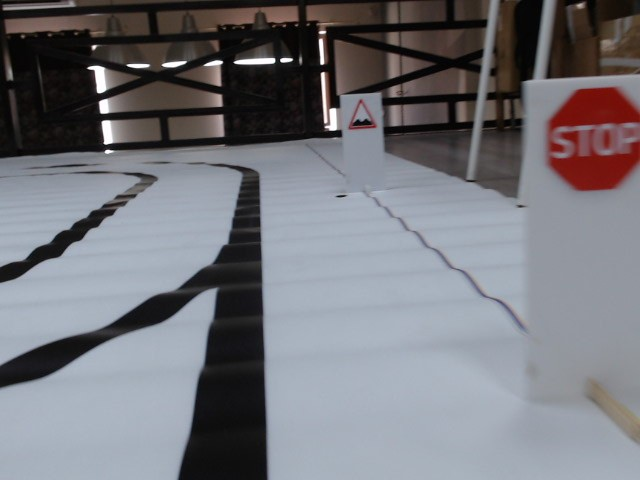Nerov: (347, 100, 378, 132)
Stop: (540, 83, 640, 193)
